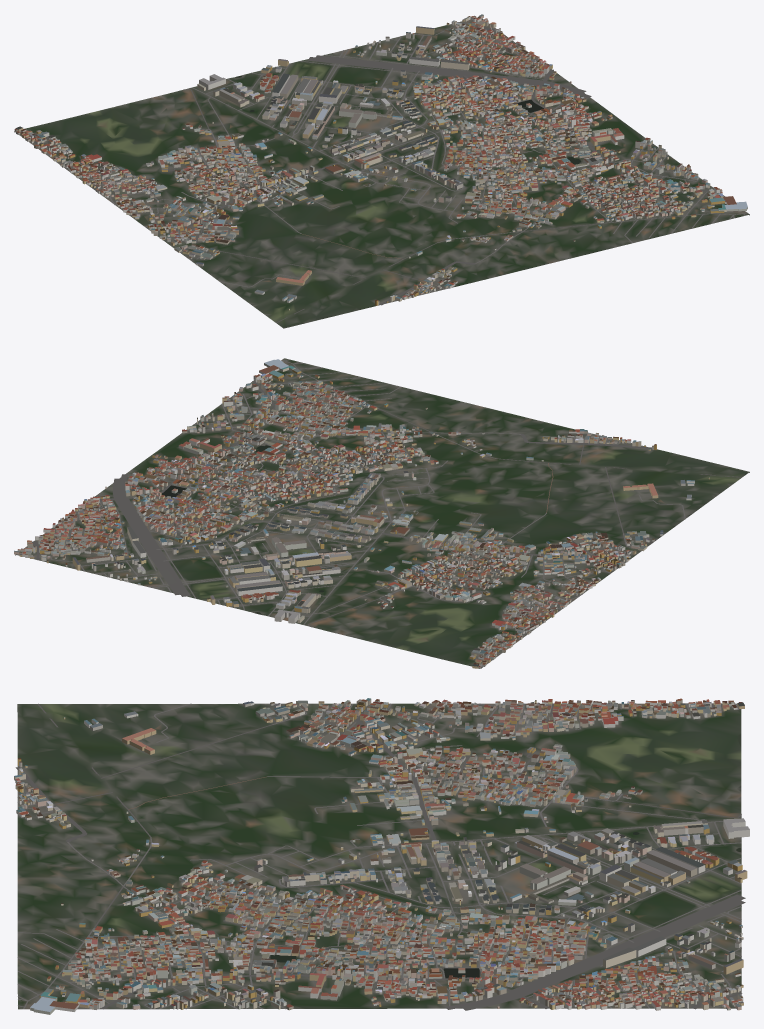
3 renders of one model, top to bottom at view 1: azimuth 30°, elevation 25°; view 2: azimuth 150°, elevation 25°; view 3: azimuth 270°, elevation 25°, orthographic. The views are drawn at different scales.
Parts seen in each view (by area): view 1: ground, buildings, roads; view 2: ground, buildings, roads; view 3: ground, buildings, roads, water.
Part boxes in pixels (<box>): ground: <box>14,17,749,328</box>; buildings: <box>14,14,747,310</box>; roads: <box>21,22,747,322</box>; ground: <box>15,358,749,668</box>; buildings: <box>14,359,709,668</box>; roads: <box>32,359,742,667</box>; ground: <box>17,703,741,1009</box>; buildings: <box>14,698,749,1014</box>; roads: <box>15,703,745,1010</box>; water: <box>270,832,740,978</box>.
Bounding box in the file's own units: 1433 × 28.06 × 1425.
